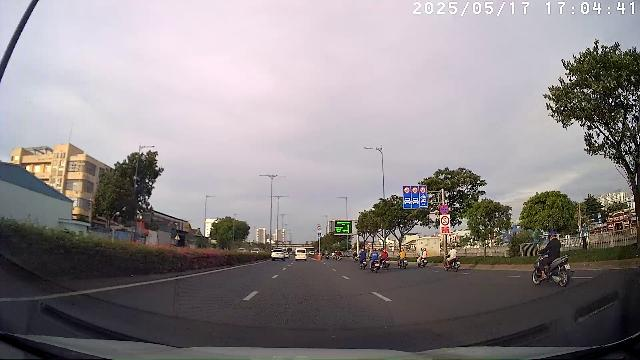127-toc-do-toi-da-50: (420, 187, 426, 194)
127-toc-do-toi-da-60: (404, 187, 411, 194), (412, 187, 418, 194)
130-cam-dung-va-do-xe: (439, 205, 449, 214)
